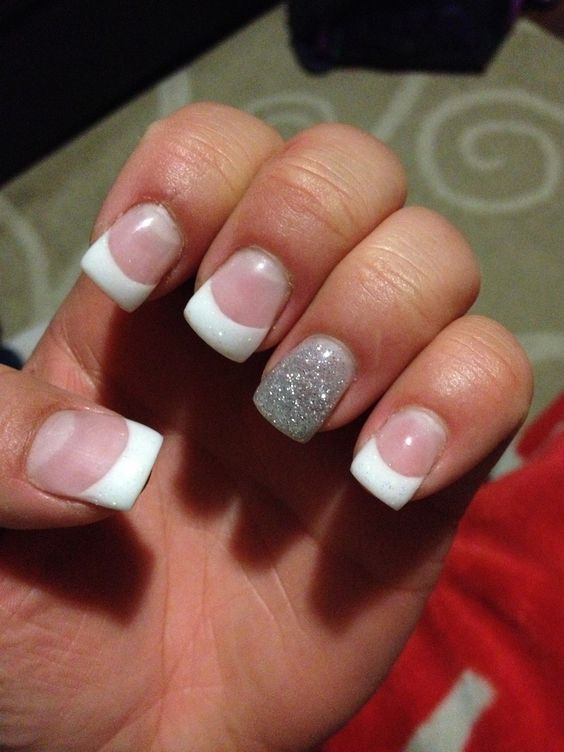nails: (13, 392, 171, 521), (175, 240, 297, 370), (72, 192, 190, 320), (250, 326, 366, 450), (344, 403, 450, 516)
